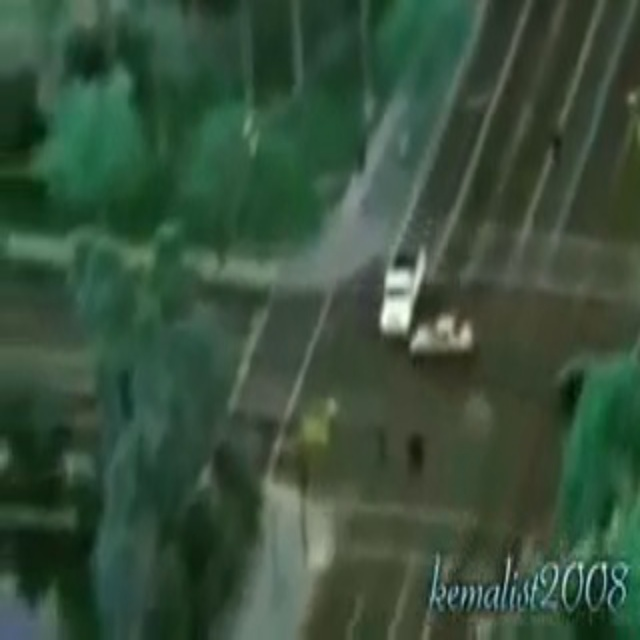acc: (371, 240, 473, 366)
